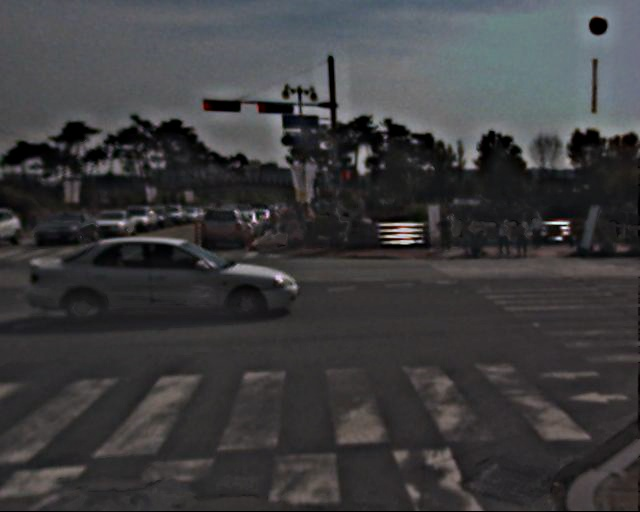person: (273, 204, 315, 247), (514, 211, 535, 263), (328, 205, 348, 253), (467, 210, 485, 255), (496, 217, 514, 262), (438, 211, 456, 254), (533, 211, 550, 252)
